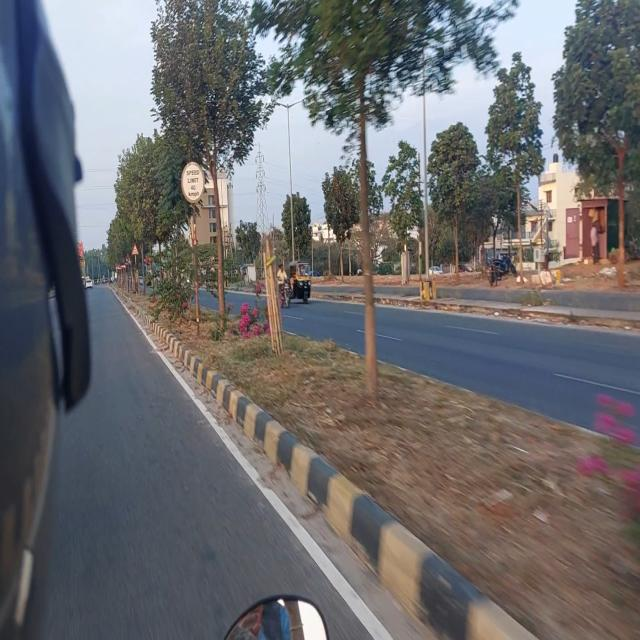bien_cam: (180, 160, 206, 204)
